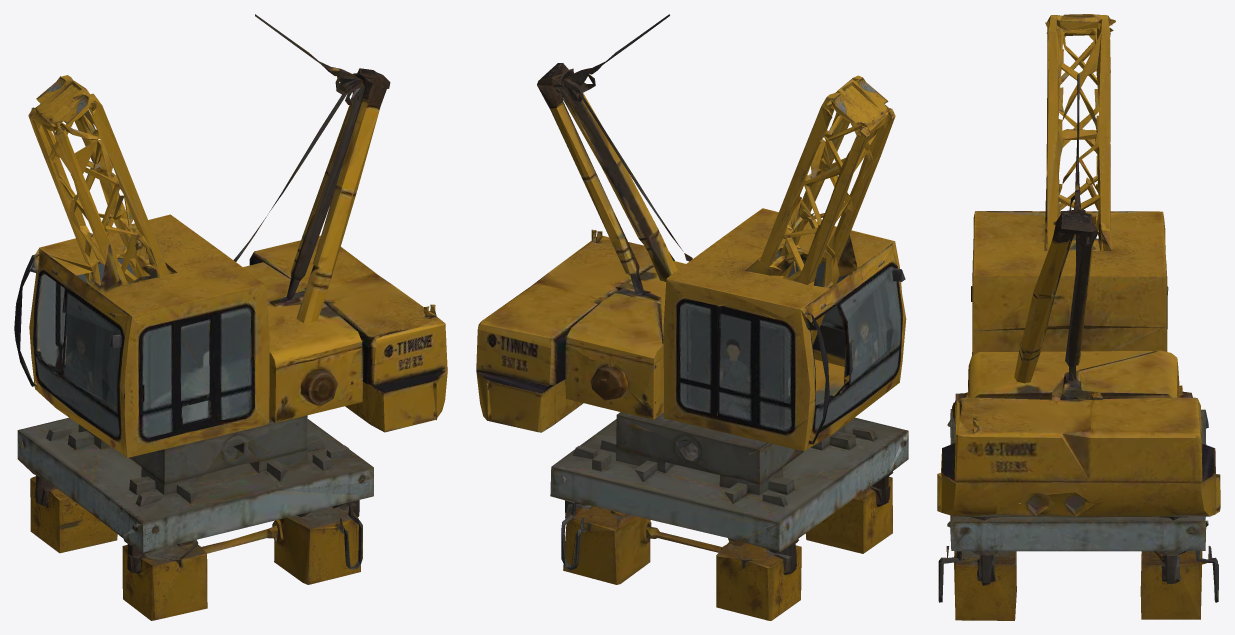
Rendered from tower_crane_cab.glb.
3 views of the same model, side by side, from view 1: azimuth 30°, elevation 25°; view 2: azimuth 150°, elevation 25°; view 3: azimuth 270°, elevation 25° (orthographic).
Size of the model in its own units: 1.31 by 1.9 by 0.9303.
1 material, 1 textured.
